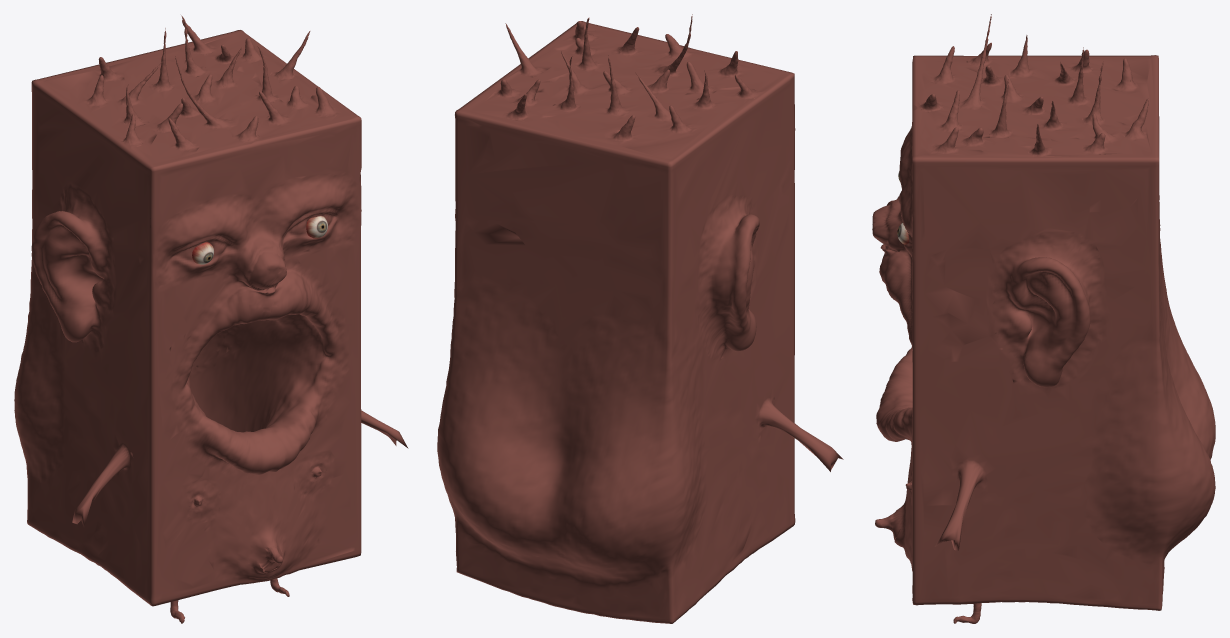
Rendered from blockhead3.glb.
The picture shows the model from 3 angles, left to right: view 1: azimuth 30°, elevation 25°; view 2: azimuth 150°, elevation 25°; view 3: azimuth 270°, elevation 25°; orthographic projection. The views are drawn at different scales.
Visible parts, largest first — view 1: blockhead2.002; view 2: blockhead2.002; view 3: blockhead2.002.
Boxes of the visible parts, box(x1,y1,x2,y2) form: blockhead2.002: box(14, 15, 408, 623); blockhead2.002: box(437, 14, 843, 623); blockhead2.002: box(872, 14, 1215, 623).
Bounding box in the file's own units: 1.6 × 2.61 × 1.44.
3 materials, 2 textured.
